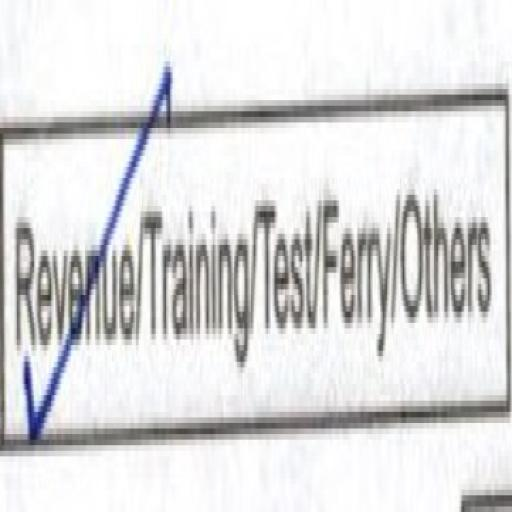check: (0, 0, 139, 483)
